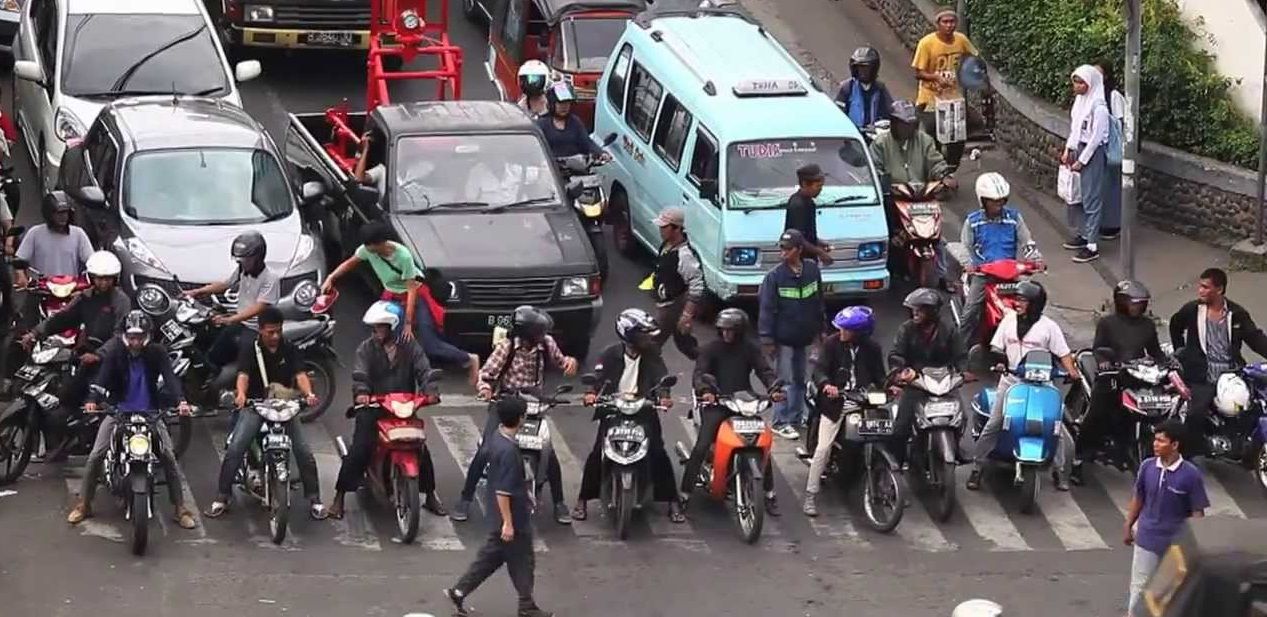car: (274, 40, 606, 364), (581, 10, 894, 308), (59, 90, 338, 351), (10, 1, 258, 230)
motorbike: (7, 258, 202, 491), (160, 222, 341, 425), (470, 305, 586, 540), (335, 312, 444, 554), (579, 303, 692, 532), (228, 310, 332, 547), (508, 59, 614, 290), (793, 314, 907, 528), (92, 313, 194, 547), (970, 283, 1073, 510), (679, 305, 778, 539), (1176, 265, 1267, 491), (884, 288, 971, 520), (1079, 281, 1170, 487), (14, 197, 101, 388), (868, 97, 952, 294), (957, 180, 1031, 365)
